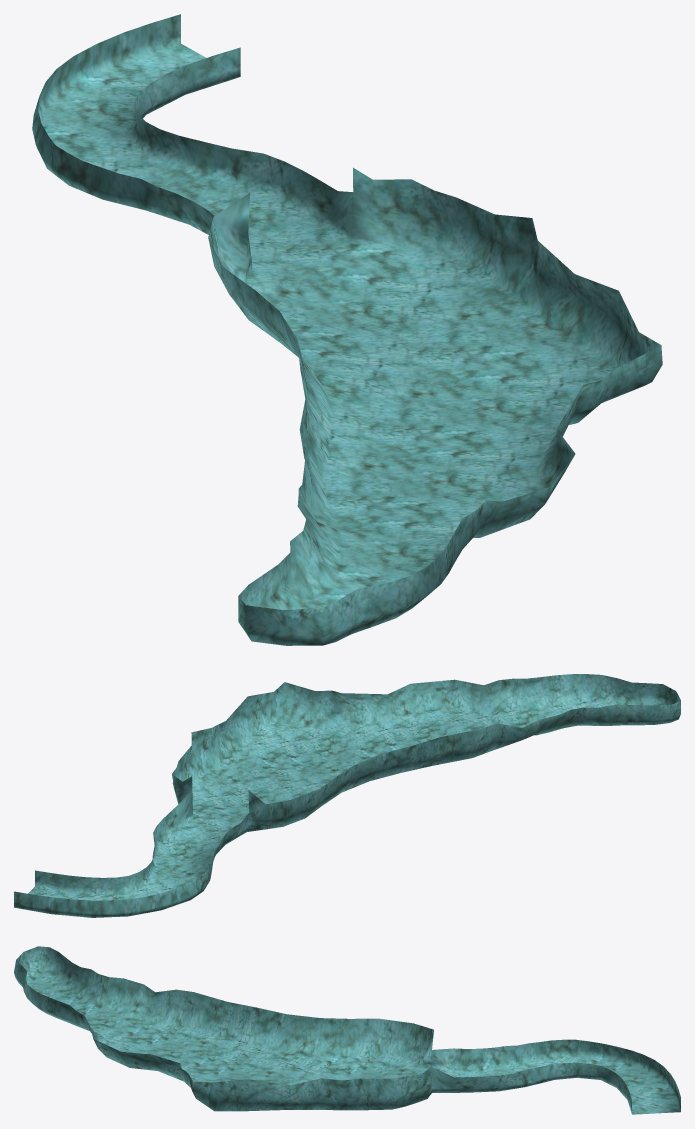
The model's file is EKH_BARRELROOM_PS_JA1_RIVERBOTTOM_37365.fbx.
The picture shows the model from 3 angles, top to bottom: view 1: azimuth 30°, elevation 25°; view 2: azimuth 150°, elevation 25°; view 3: azimuth 270°, elevation 25°; orthographic projection. The views are drawn at different scales.
Visible parts, largest first — view 1: EKH_BARRELROOM_PS_JA1_RIVERBOTTOM_37365; view 2: EKH_BARRELROOM_PS_JA1_RIVERBOTTOM_37365; view 3: EKH_BARRELROOM_PS_JA1_RIVERBOTTOM_37365.
Boxes of the visible parts, left/top/right/bottom form: EKH_BARRELROOM_PS_JA1_RIVERBOTTOM_37365: left=32, top=14, right=662, bottom=645; EKH_BARRELROOM_PS_JA1_RIVERBOTTOM_37365: left=14, top=674, right=680, bottom=917; EKH_BARRELROOM_PS_JA1_RIVERBOTTOM_37365: left=14, top=946, right=680, bottom=1114.
Bounding box in the file's own units: 255157 × 35657 × 498707.
Materials: 1 (1 with a texture image).
